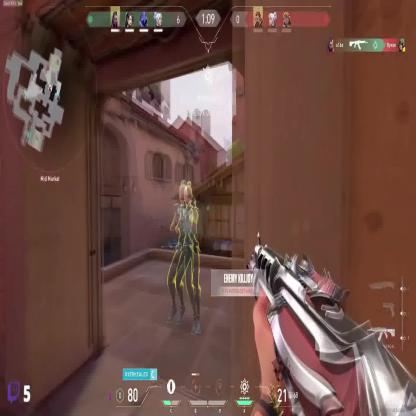enemy: (168, 180, 200, 333)
enemy_head: (180, 184, 193, 210)
